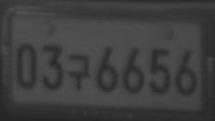0: (16, 43, 36, 89)
3: (41, 44, 63, 90)
5: (149, 48, 171, 94)
6: (175, 49, 198, 96), (122, 47, 145, 93), (96, 46, 118, 92)
구: (67, 53, 92, 90)
